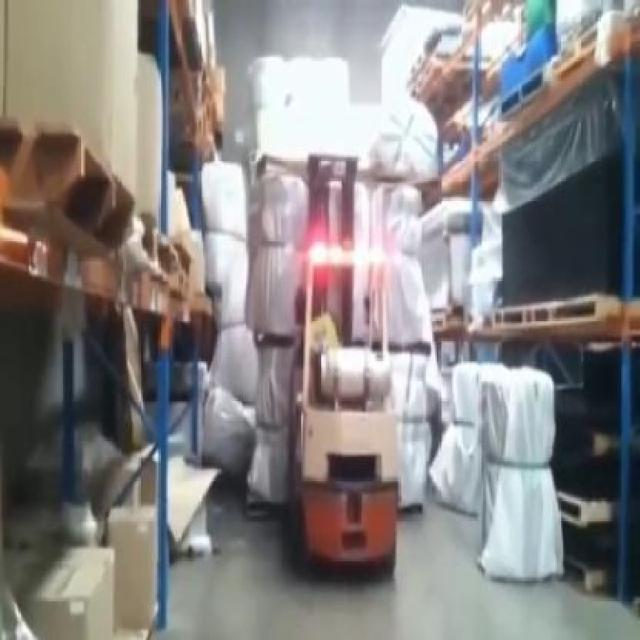forklift: (283, 146, 405, 586)
